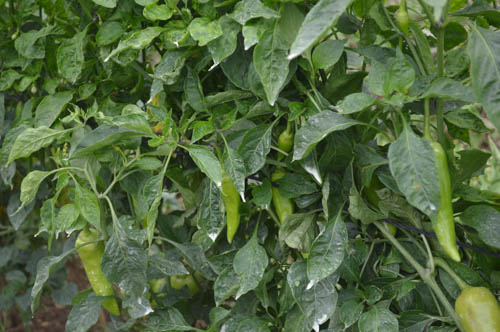ChiliPepper: (423, 143, 461, 263), (76, 234, 118, 314), (458, 284, 498, 332), (220, 172, 241, 243), (271, 171, 295, 233), (278, 134, 296, 160)
